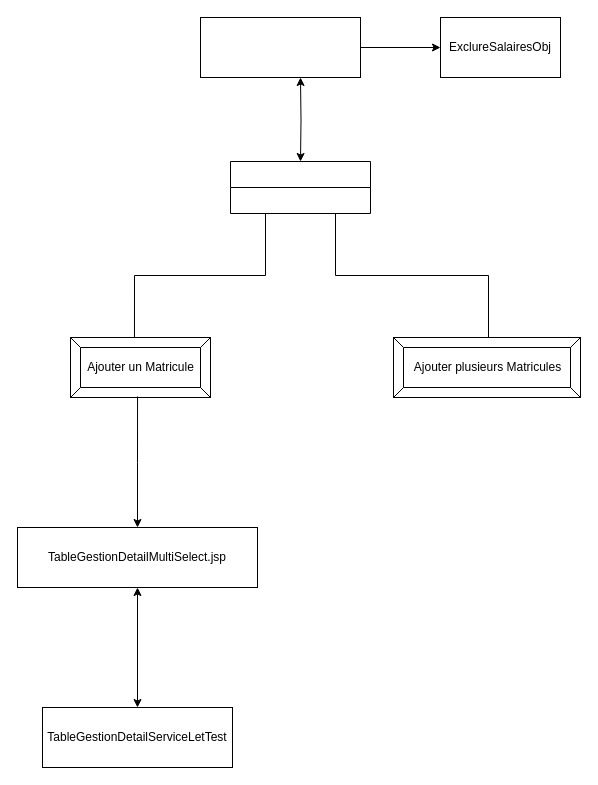
This 598x785 diagram has some shape labels left out. The centre of each missing label's shape, as x and y in pixels:
"ExclureSalairesServiceLet" goes at point 280,47.
"MultiSelectPage.jsp" goes at point 300,187.
